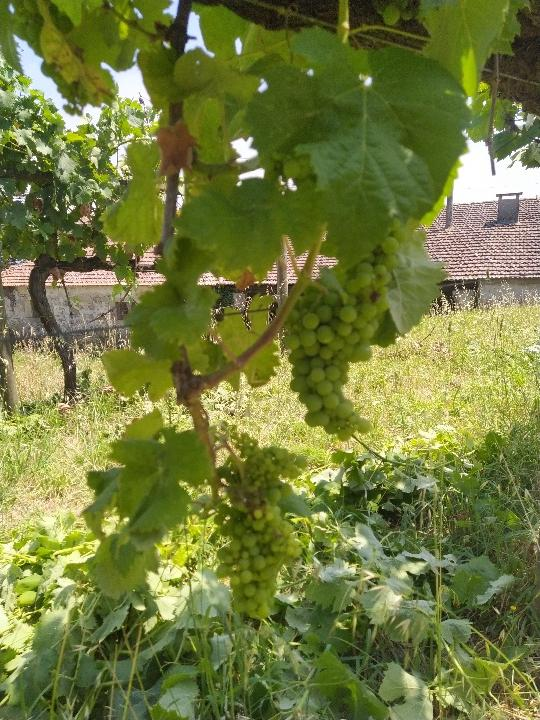grape: (282, 255, 393, 442), (208, 494, 306, 623)
